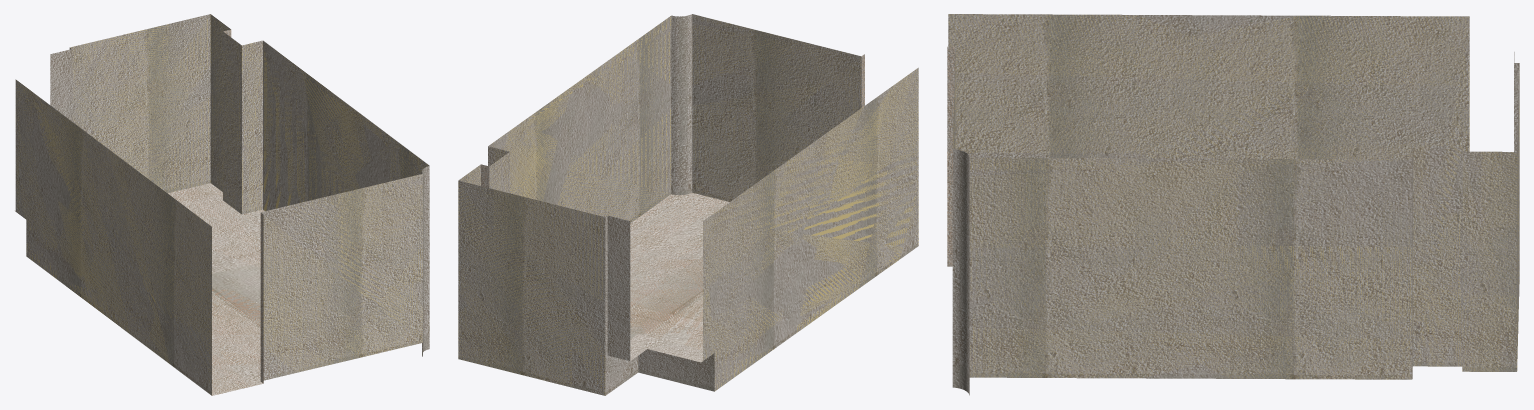
Rendered from DES020.obj.
3 renders of one model, left to right at view 1: azimuth 30°, elevation 25°; view 2: azimuth 150°, elevation 25°; view 3: azimuth 270°, elevation 25°, orthographic. The views are drawn at different scales.
Parts seen in each view (by area): view 1: Mesh1 DES020 Model; view 2: Mesh1 DES020 Model; view 3: Mesh1 DES020 Model.
Part boxes in pixels (x1,y1,x2,y2): Mesh1 DES020 Model: (14, 14, 429, 395); Mesh1 DES020 Model: (458, 14, 918, 395); Mesh1 DES020 Model: (947, 14, 1519, 395).
Bounding box in the file's own units: 4.26 × 3.25 × 7.06.
4 materials, 2 textured.
